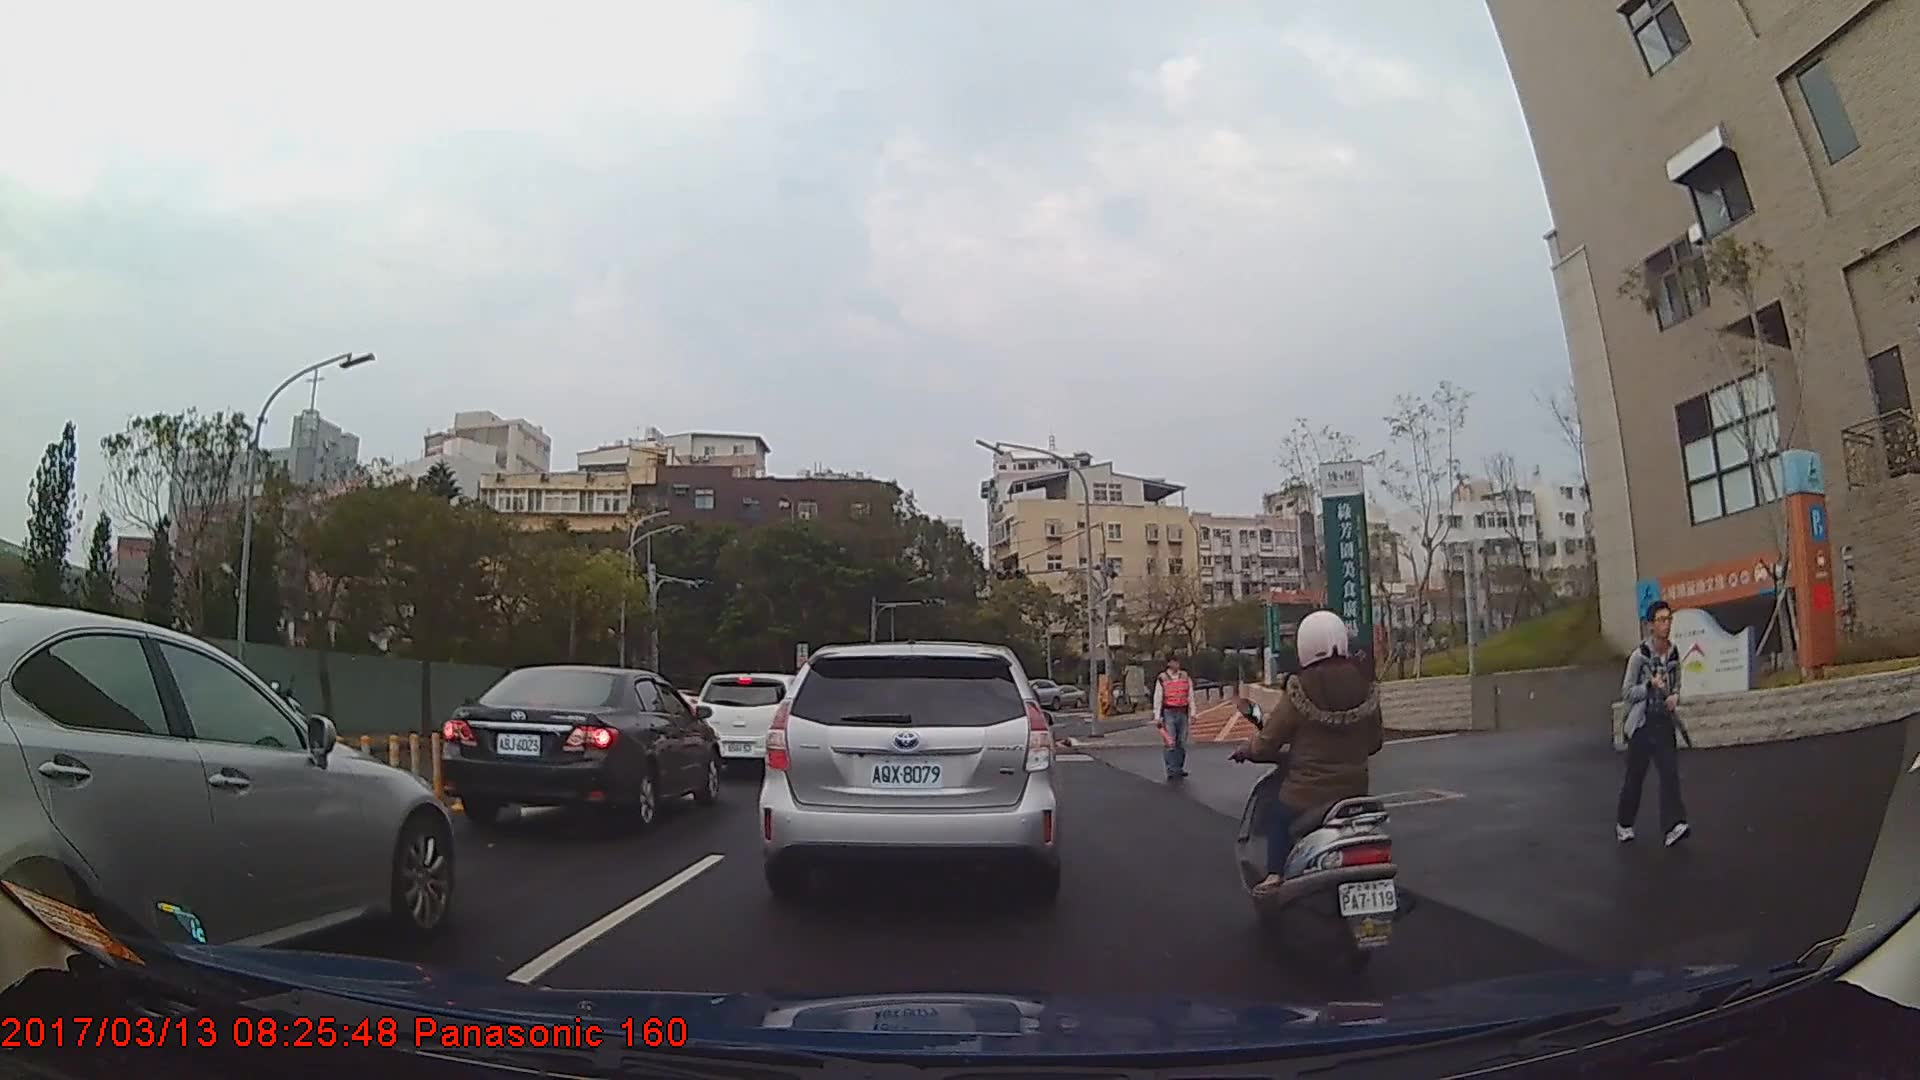pedestrian: (1612, 603, 1684, 851), (1150, 645, 1203, 788)
rider: (1224, 610, 1411, 973)
vehicle: (0, 601, 457, 972), (760, 640, 1062, 905), (439, 662, 722, 835), (698, 673, 816, 775), (1047, 682, 1087, 711)
